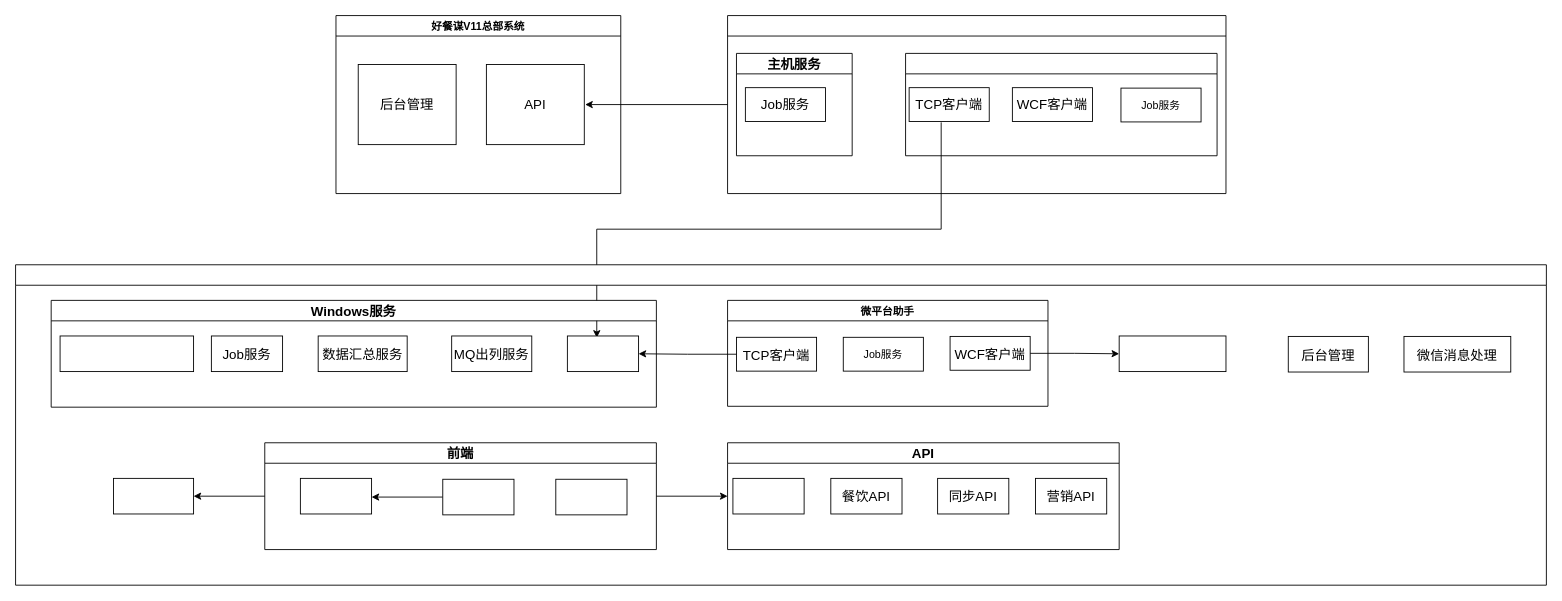
Some shapes in this 1562 by 601 pixel diagram are drawn without their labels. Each missing label, with the box of its shape:
RocketMQ出列服务: (59, 335, 194, 372)
SignalR: (113, 477, 194, 514)
TCP服务端: (566, 335, 639, 372)
WCF服务端: (1118, 335, 1226, 372)
前台收银: (905, 53, 1217, 156)
基础API: (732, 477, 804, 514)
好餐谋V11门店ERP系统: (727, 15, 1226, 194)
微信小程序: (442, 478, 514, 515)
抽奖H5: (555, 478, 627, 515)
餐饮H5: (299, 477, 372, 514)
餐饮微平台系统: (15, 264, 1546, 585)
